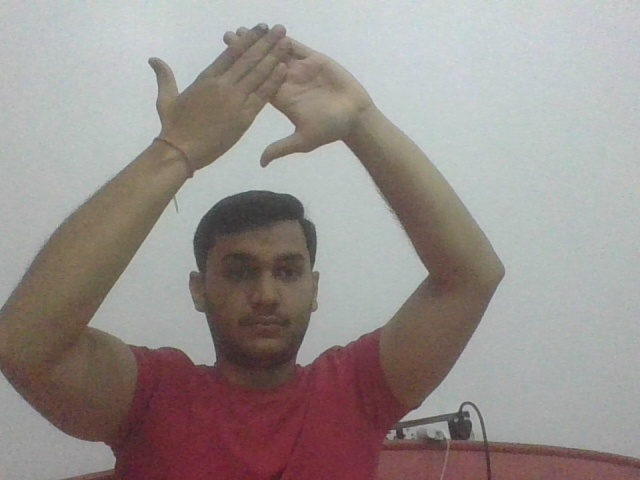H: (144, 22, 364, 159)
